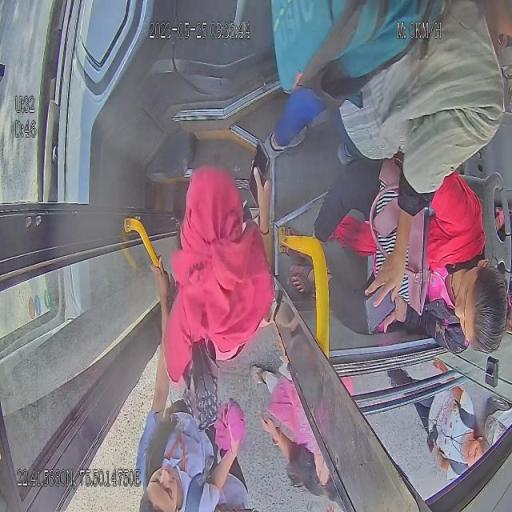persona: (269, 0, 512, 309), (278, 152, 508, 358), (162, 162, 277, 432), (135, 254, 250, 510), (254, 366, 341, 506), (426, 382, 511, 481)
